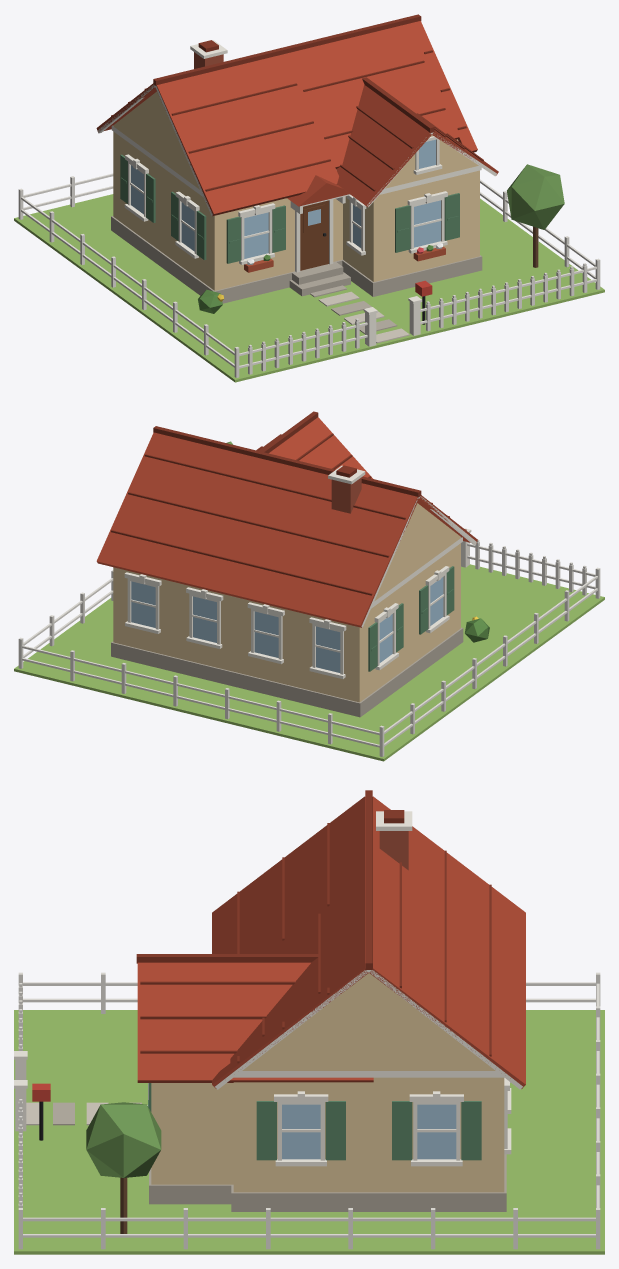
The model's file is MustakilEv_avrupa_3_3_Hafif.fbx.
3 views of the same model, one above another, from view 1: azimuth 30°, elevation 25°; view 2: azimuth 150°, elevation 25°; view 3: azimuth 270°, elevation 25° (orthographic). The views are drawn at different scales.
Parts seen in each view (by area): view 1: MustakilEv_avrupa_3_3_Hafif; view 2: MustakilEv_avrupa_3_3_Hafif; view 3: MustakilEv_avrupa_3_3_Hafif.
Part boxes in pixels (x1,y1,x2,y2): MustakilEv_avrupa_3_3_Hafif: (14,14,604,382); MustakilEv_avrupa_3_3_Hafif: (14,411,604,761); MustakilEv_avrupa_3_3_Hafif: (14,790,604,1254).
Bounding box in the file's own units: 12.49 × 6.64 × 12.94.
